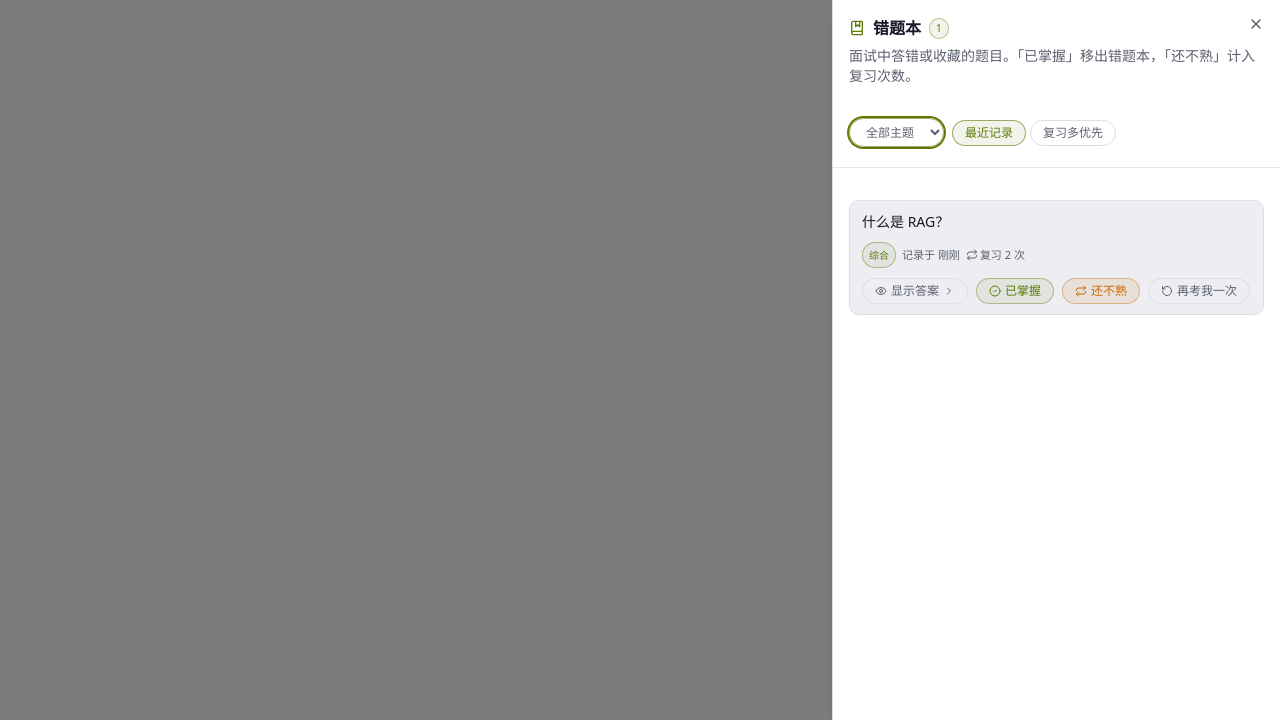
Test: MistakesPanel › 点击「显示答案」展开，无答案时显示占位文案
Click the button "显示答案": x=915, y=291 [862,278,968,304]
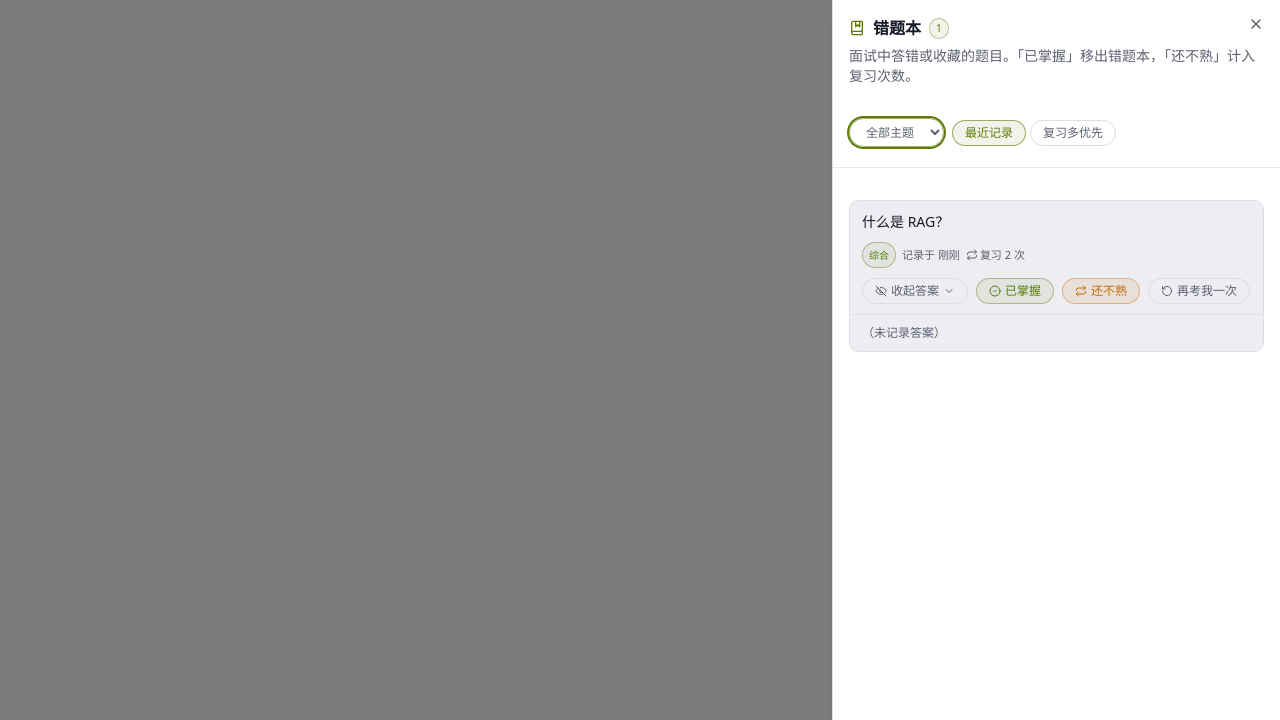
Check: the text "（未记录答案）" is shown, box [862,324,946,341]
Click the button "收起答案": x=915, y=291 [862,278,968,304]
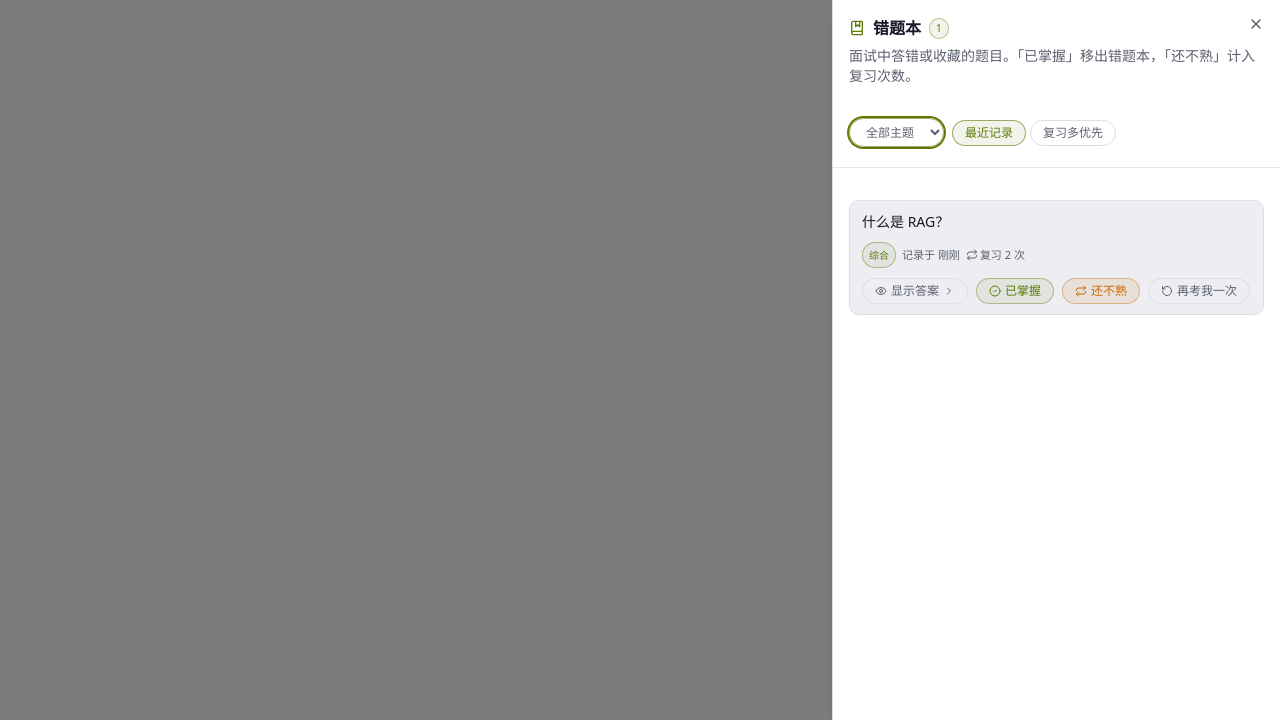
Check: the text "（未记录答案）" is gone
